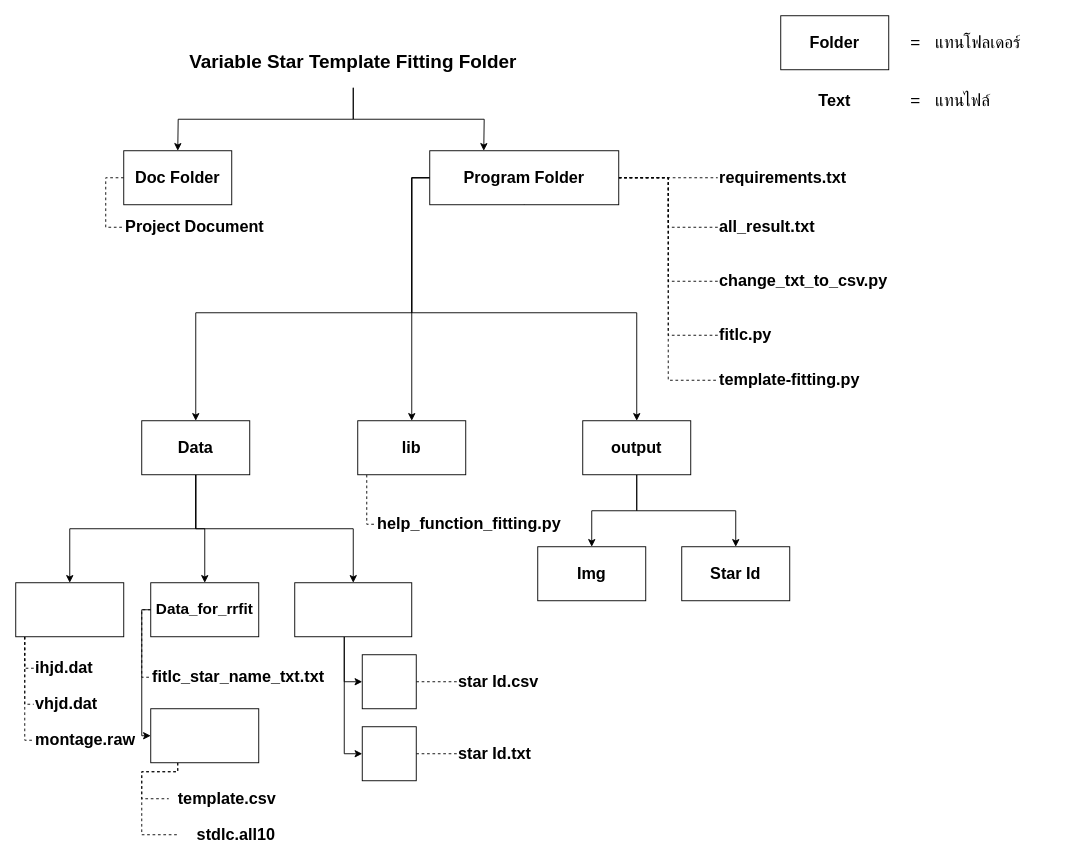
Some shapes in this 1085 by 860 pixel diagram are drawn without their labels. The centre of each missing label's shape, as x and y in pixels:
csv: the point at 388,681
Data_for_fitlc: the point at 69,609
Data_from_fitlc: the point at 353,609
Template: the point at 204,735
txt: the point at 388,753
